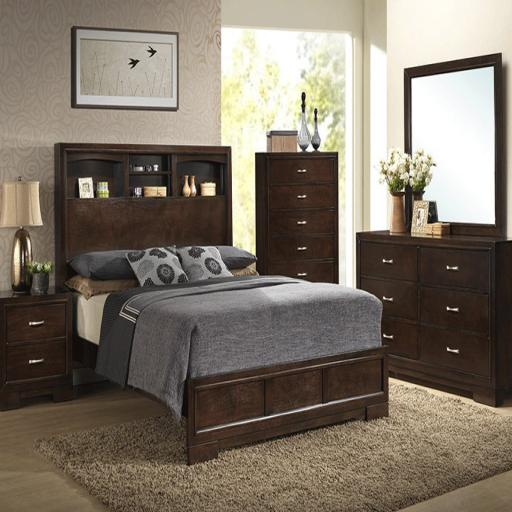bed: (54, 142, 389, 465)
